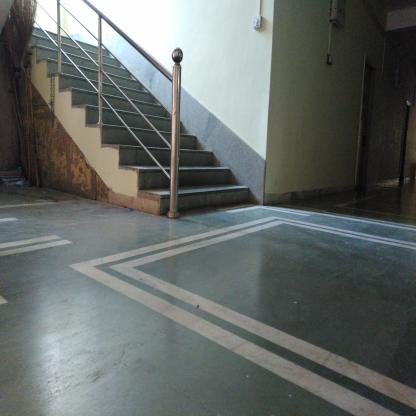stairs: (183, 148, 213, 219)
